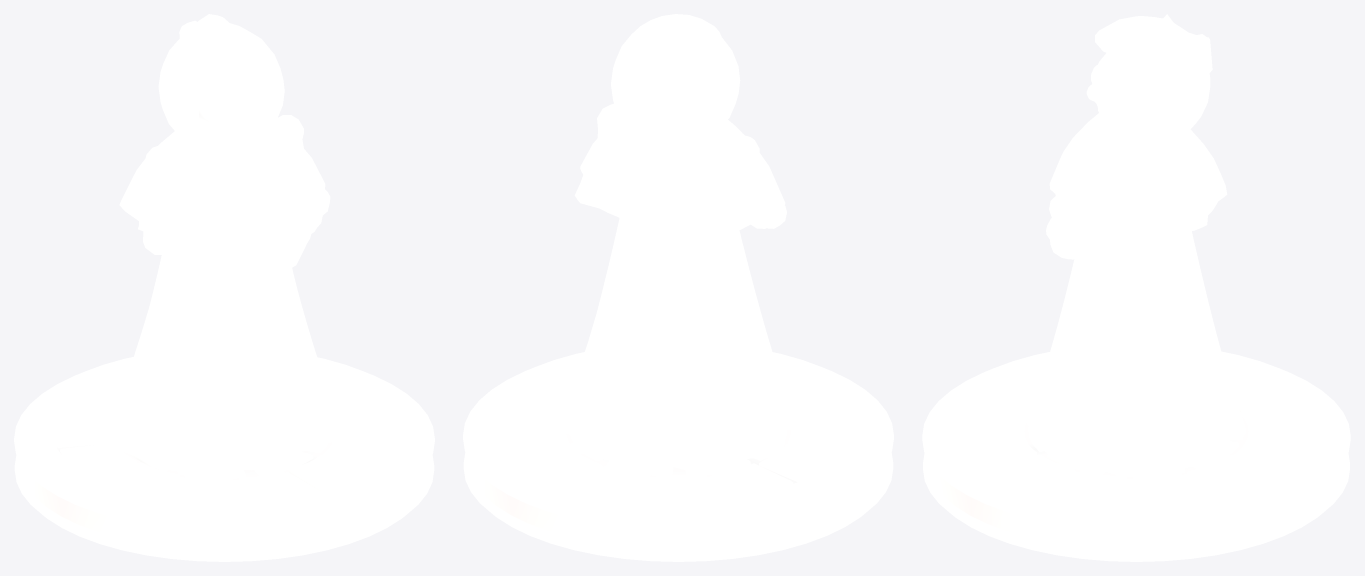
The model's file is pieces-core.glb.
3 views of the same model, side by side, from view 1: azimuth 30°, elevation 25°; view 2: azimuth 150°, elevation 25°; view 3: azimuth 270°, elevation 25° (orthographic). The views are drawn at different scales.
Visible parts, largest first — view 1: token_p1; view 2: token_p1; view 3: token_p1.
Boxes of the visible parts, bbox=[...] form: token_p1: bbox=[14, 14, 434, 561]; token_p1: bbox=[463, 14, 893, 561]; token_p1: bbox=[922, 14, 1350, 561].
Bounding box in the file's own units: 0.3972 × 0.4869 × 0.3972.
